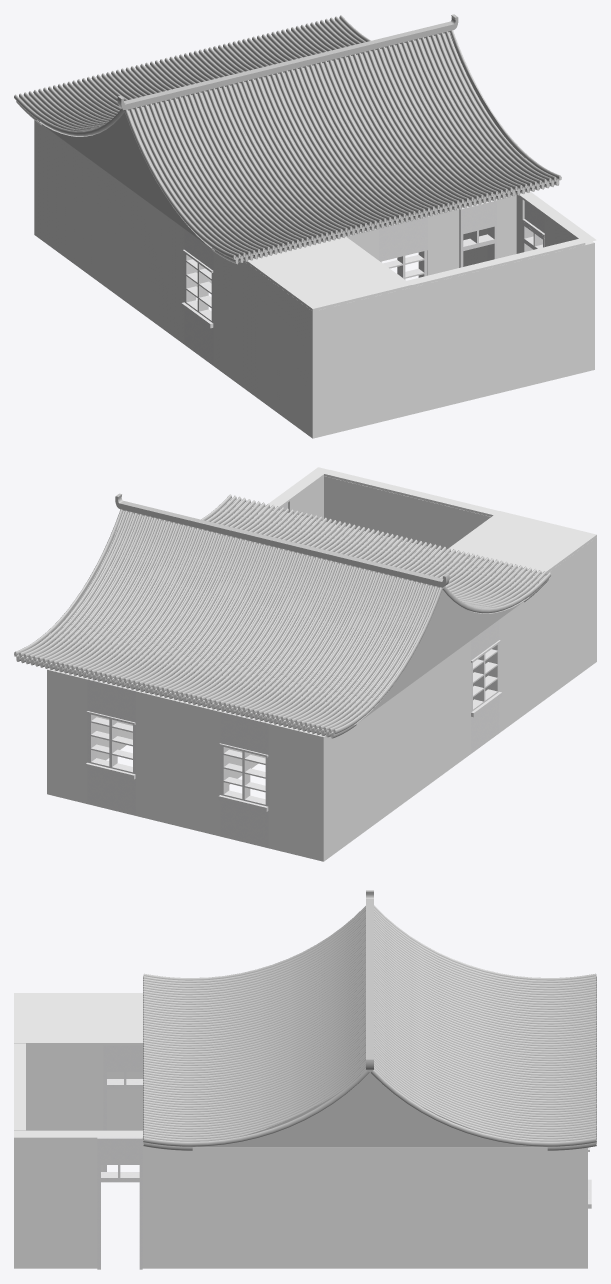
The picture shows the model from 3 angles, top to bottom: view 1: azimuth 30°, elevation 25°; view 2: azimuth 150°, elevation 25°; view 3: azimuth 270°, elevation 25°; orthographic projection. The views are drawn at different scales.
Parts seen in each view (by area): view 1: Geom3D_ (×78); view 2: Geom3D_ (×81); view 3: Geom3D_ (×140).
Part boxes in pixels (<box>): Geom3D_ (×78): <box>14,21,596,438</box>; Geom3D_ (×81): <box>14,467,596,861</box>; Geom3D_ (×140): <box>14,899,596,1269</box>.
Size of the model in its own units: 8.33 by 5.18 by 12.1.
4 materials, 1 textured.
